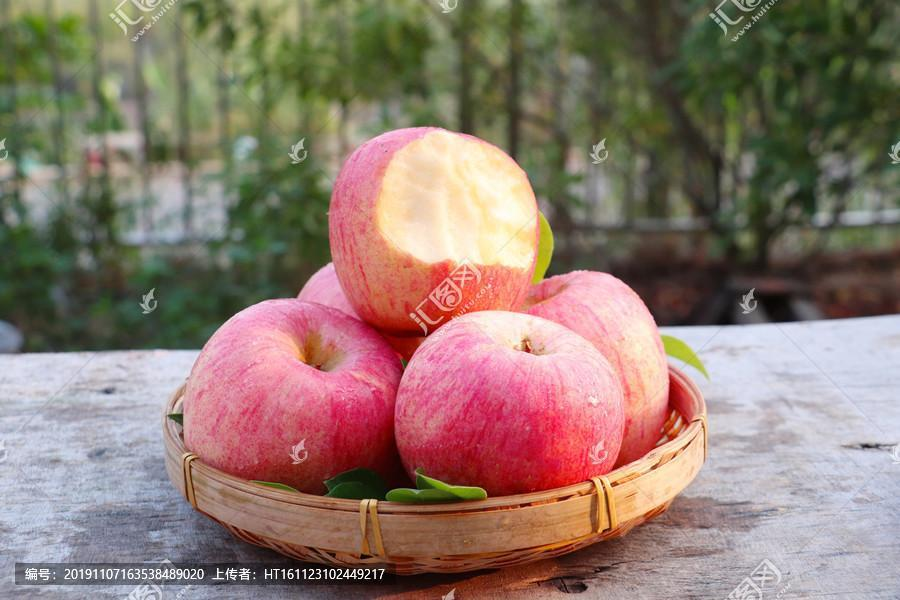apple: (183, 296, 410, 496), (391, 308, 625, 496), (329, 126, 540, 334)
